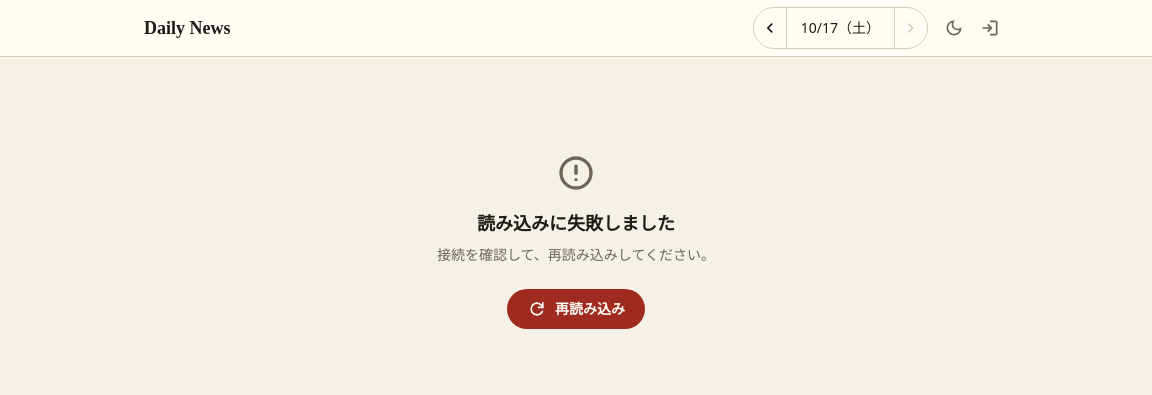
読み込みに失敗した › 案内と「再読み込み」を出し、押すと読み直す
The width and height of the screenshot is (1152, 395).
Check: the text "読み込みに失敗しました" is shown, box x1=477 y1=209 x2=675 y2=237
Check: the text "接続を確認して、再読み込みしてください。" is shown, box x1=437 y1=245 x2=715 y2=265
Click the button "再読み込み". click: (576, 309)
box: x1=507 y1=289 x2=645 y2=329
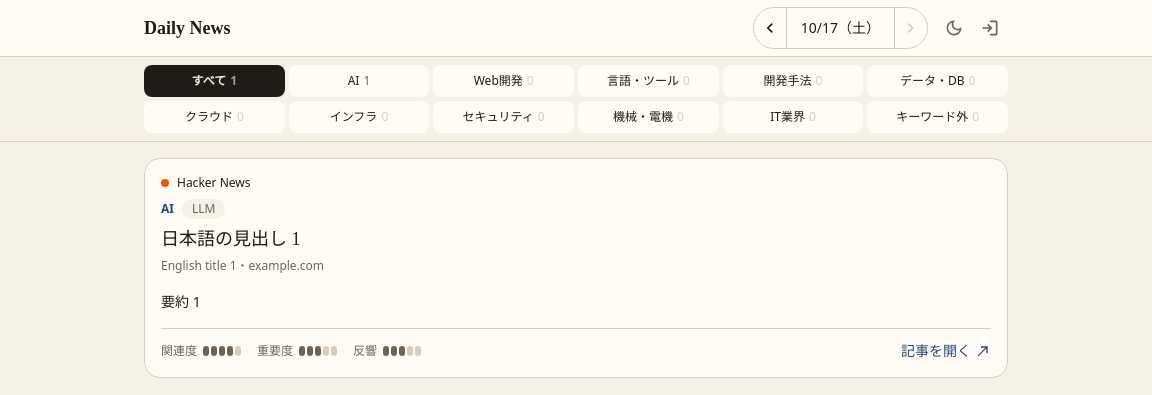
Check: the link "日本語の見出し 1" is shown, box x1=161 y1=229 x2=300 y2=249
